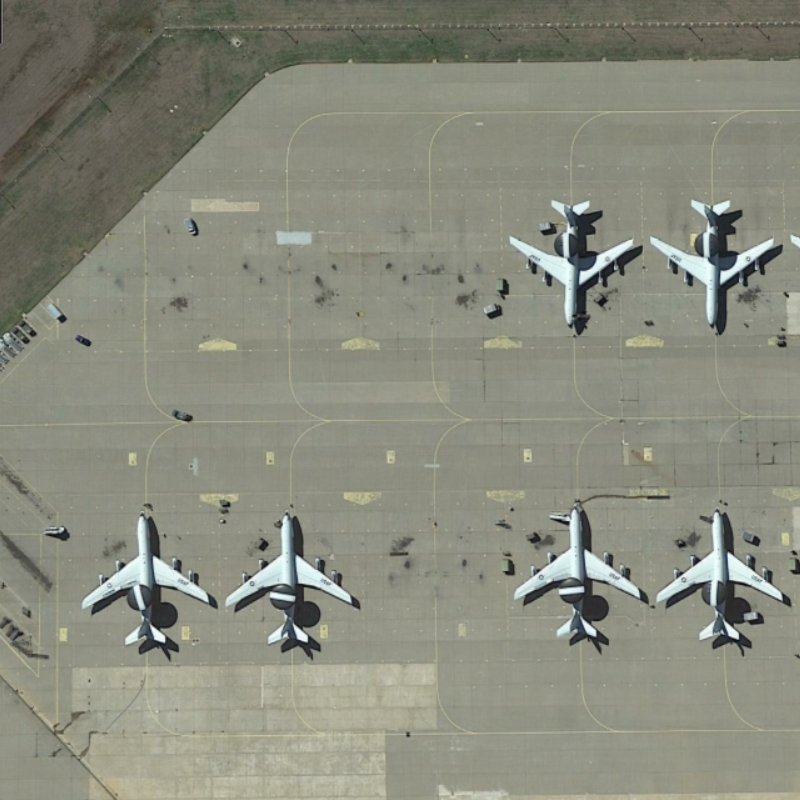A7: (501, 194, 645, 341), (218, 504, 359, 654), (651, 504, 794, 651), (645, 194, 782, 339), (75, 509, 218, 647), (509, 501, 643, 648)
